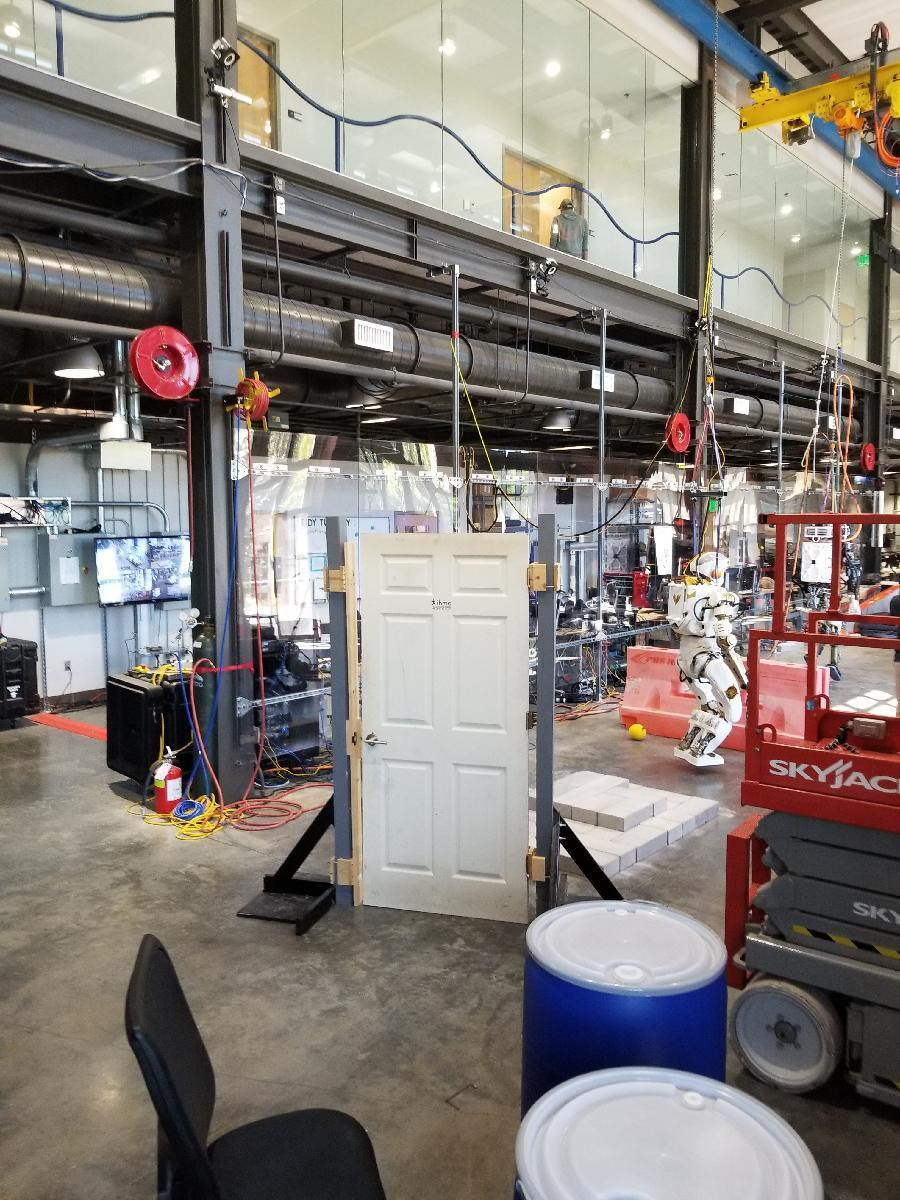door: (351, 536, 538, 920)
handle: (362, 731, 390, 749)
